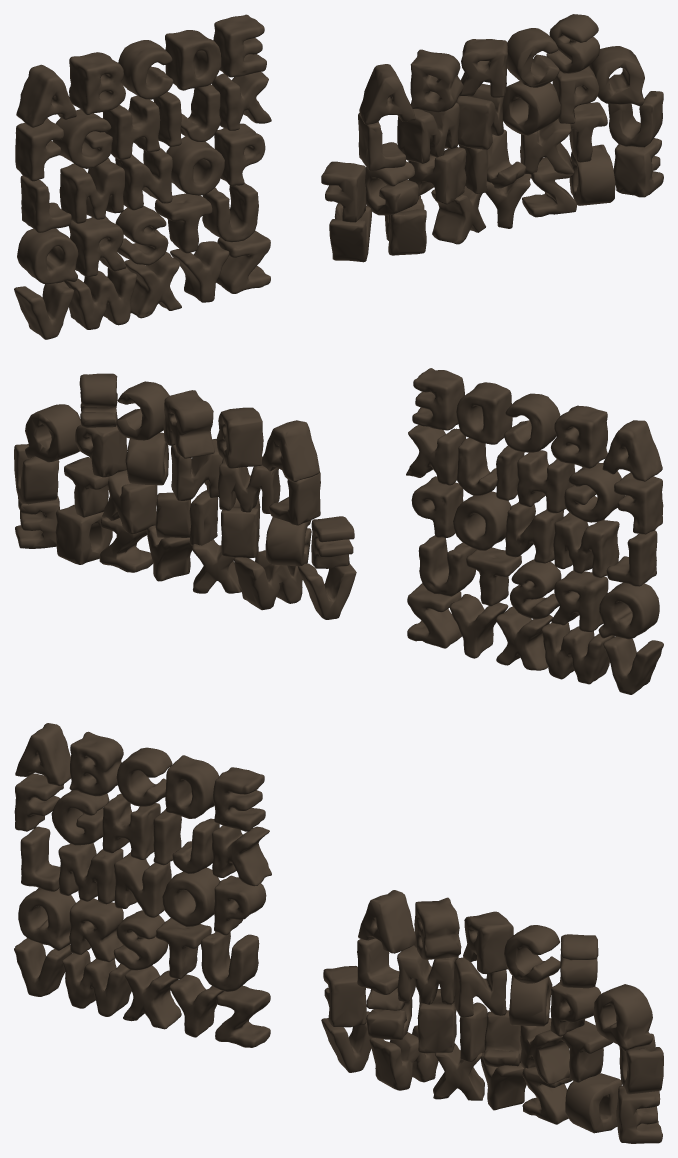
The model's file is Stone letters english n1 Final 2014.FBX.
3 views of the same model, one above another, from view 1: azimuth 30°, elevation 25°; view 2: azimuth 150°, elevation 25°; view 3: azimuth 330°, elevation 25° (orthographic).
Parts seen in each view (by area): view 1: Stone letters english n013, Stone letters english n003, Stone letters english n023, Stone letters english n072, Stone letters english n024, Stone letters english n007, Stone letters english n063, Stone letters english n020, Text002, Stone letters english n006, Stone letters english n057, Stone letters english n009 (+40 smaller); view 2: Stone letters english n013, Stone letters english n003, Stone letters english n023, Stone letters english n059, Stone letters english n007, Stone letters english n024, Stone letters english n051, Stone letters english n020, Stone letters english n057, Stone letters english n006, Stone letters english n048, Text002 (+40 smaller); view 3: Stone letters english n003, Stone letters english n057, Stone letters english n013, Stone letters english n006, Stone letters english n023, Stone letters english n019, Stone letters english n051, Text002, Stone letters english n009, Stone letters english n020, Stone letters english n007, Stone letters english n014 (+40 smaller).
Part boxes in pixels (box(x1,y1,x2,y2)): Stone letters english n013: box(59, 158, 124, 223); Stone letters english n003: box(64, 267, 136, 329); Stone letters english n023: box(69, 52, 125, 114); Stone letters english n072: box(410, 49, 463, 112); Stone letters english n024: box(165, 30, 221, 90); Stone letters english n007: box(17, 228, 78, 284); Stone letters english n063: box(397, 102, 459, 163); Stone letters english n020: box(103, 95, 160, 159); Text002: box(213, 14, 266, 77); Stone letters english n006: box(202, 183, 258, 242); Stone letters english n057: box(589, 46, 644, 105); Stone letters english n009: box(68, 216, 126, 277); Stone letters english n013: box(553, 512, 619, 577); Stone letters english n003: box(541, 622, 614, 684); Stone letters english n023: box(551, 405, 607, 468); Stone letters english n059: box(163, 390, 214, 458); Stone letters english n007: box(598, 582, 659, 639); Stone letters english n024: box(456, 382, 512, 444); Stone letters english n051: box(233, 550, 302, 610); Stone letters english n020: box(517, 450, 575, 513); Stone letters english n057: box(25, 404, 81, 462); Stone letters english n006: box(418, 535, 476, 596); Stone letters english n048: box(262, 420, 319, 481); Text002: box(412, 368, 464, 430); Stone letters english n003: box(62, 950, 131, 1016); Stone letters english n057: box(593, 984, 652, 1051); Stone letters english n013: box(58, 843, 123, 904); Stone letters english n006: box(201, 931, 259, 991); Stone letters english n023: box(69, 731, 123, 796); Stone letters english n019: box(212, 825, 271, 886); Stone letters english n051: box(369, 1025, 438, 1090); Text002: box(213, 767, 265, 831); Stone letters english n009: box(69, 898, 123, 962); Stone letters english n020: box(102, 793, 160, 859); Stone letters english n007: box(18, 888, 75, 950); Stone letters english n014: box(114, 852, 171, 917).
Size of the model in its own units: 2932 by 1158 by 295.
